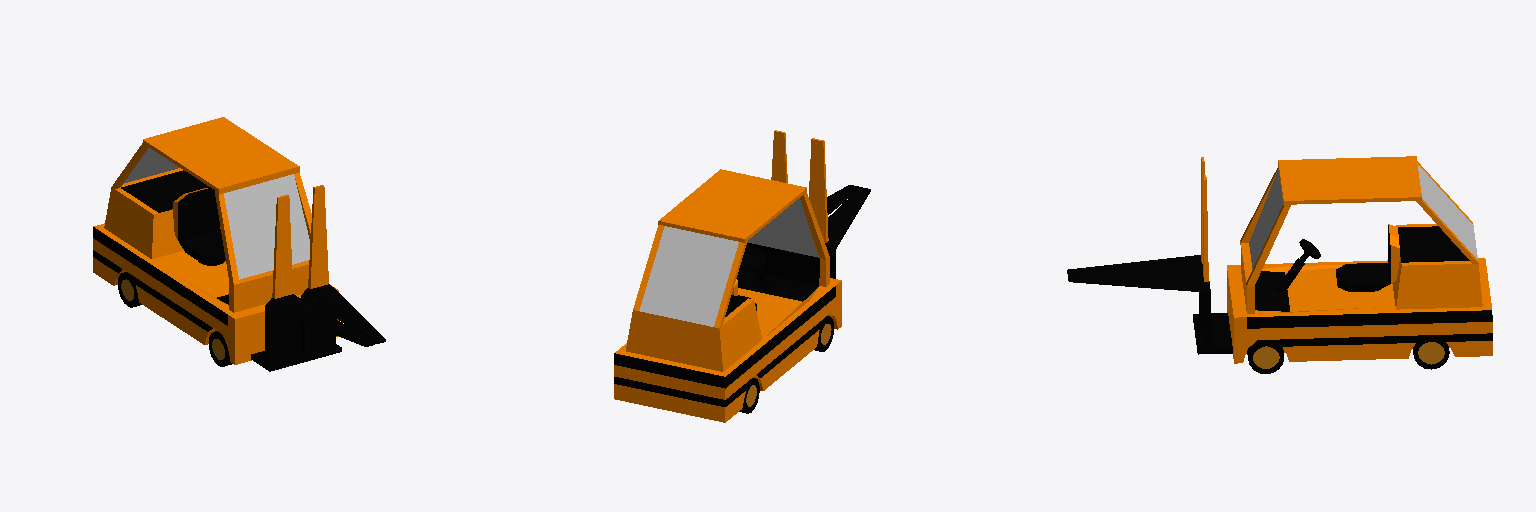
Rendered from lift.obj.
The picture shows the model from 3 angles: view 1: azimuth 30°, elevation 25°; view 2: azimuth 150°, elevation 25°; view 3: azimuth 270°, elevation 25°; orthographic projection.
Parts seen in each view (by area): view 1: forklift.001_Cube.442; view 2: forklift.001_Cube.442; view 3: forklift.001_Cube.442.
Part boxes in pixels (left/top/right/bottom): forklift.001_Cube.442: left=93, top=117, right=385, bottom=371; forklift.001_Cube.442: left=614, top=130, right=870, bottom=422; forklift.001_Cube.442: left=1067, top=156, right=1492, bottom=373.
Bounding box in the file's own units: 1.68 × 2.43 × 5.15.